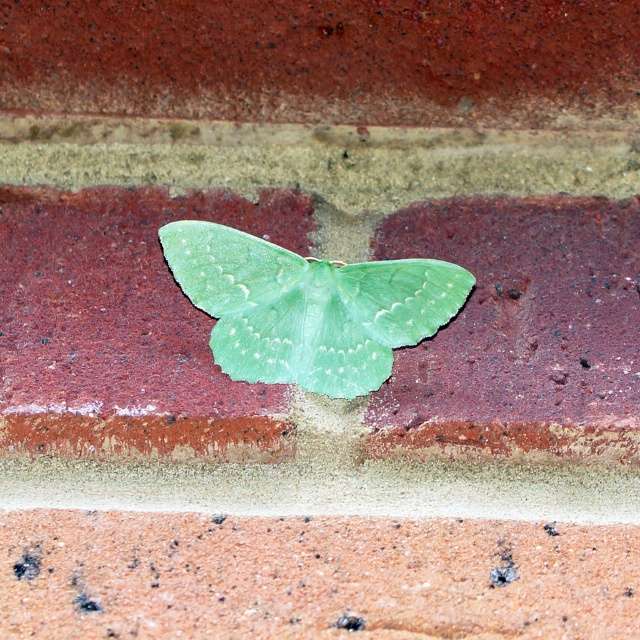Moths and butterflies: (158, 218, 477, 405)
